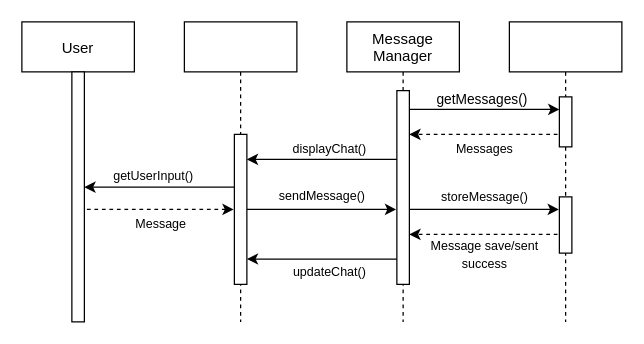
This 644x344 diagram has some shape labels left out. Here are the shapes that lost their labels. From the top down, the centre of each, then its label:
pixel 240 171: Message Viewer
pixel 565 171: Database
